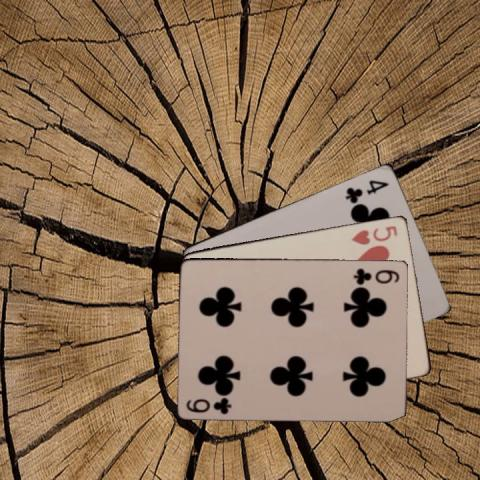4c: (342, 176, 390, 204)
5h: (348, 223, 399, 246)
6c: (183, 394, 233, 415), (351, 264, 401, 284)
